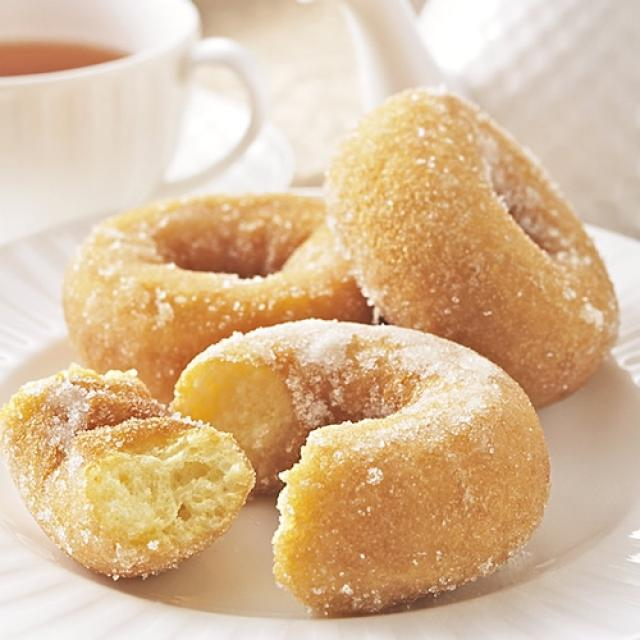炸货点心: (8, 72, 620, 620)
